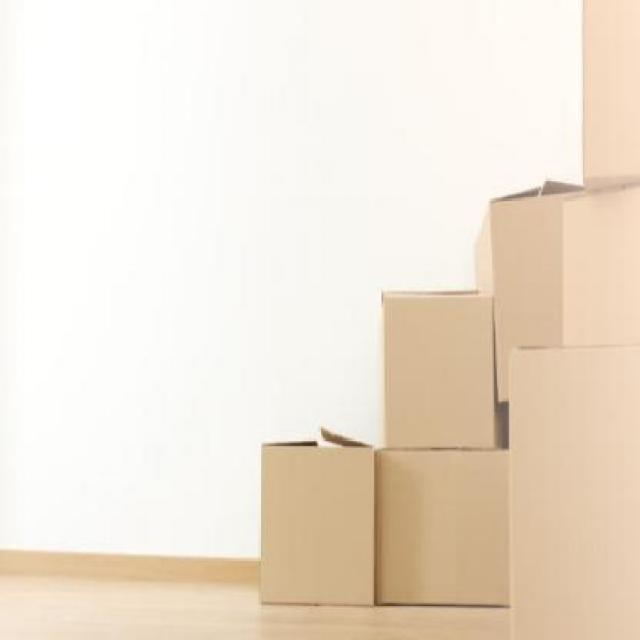box: (503, 340, 640, 640), (375, 438, 512, 614), (257, 423, 386, 609), (375, 285, 513, 449), (475, 181, 583, 387), (559, 188, 640, 344), (580, 6, 640, 190)
